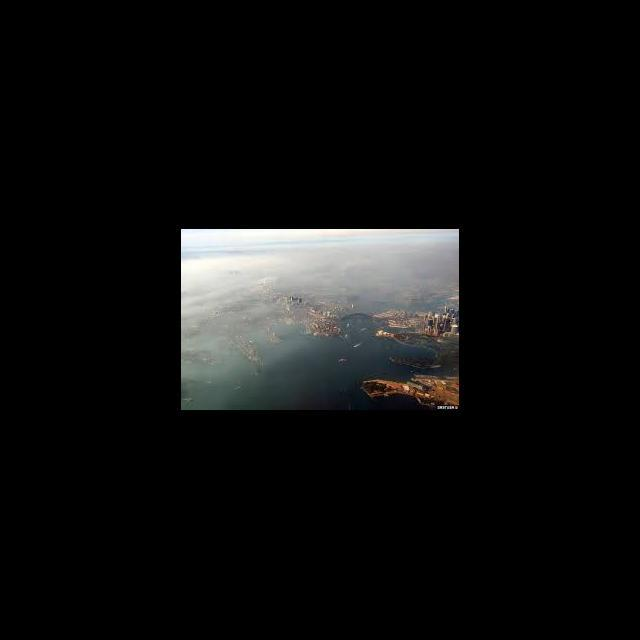Smoke: (183, 238, 458, 302)
